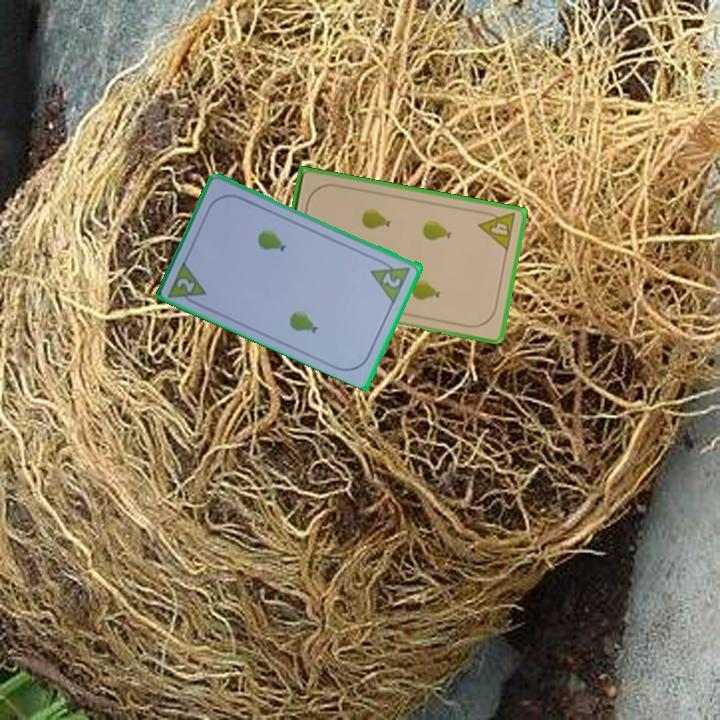2p: (165, 256, 210, 310), (379, 268, 404, 290)
4p: (475, 207, 518, 254)
